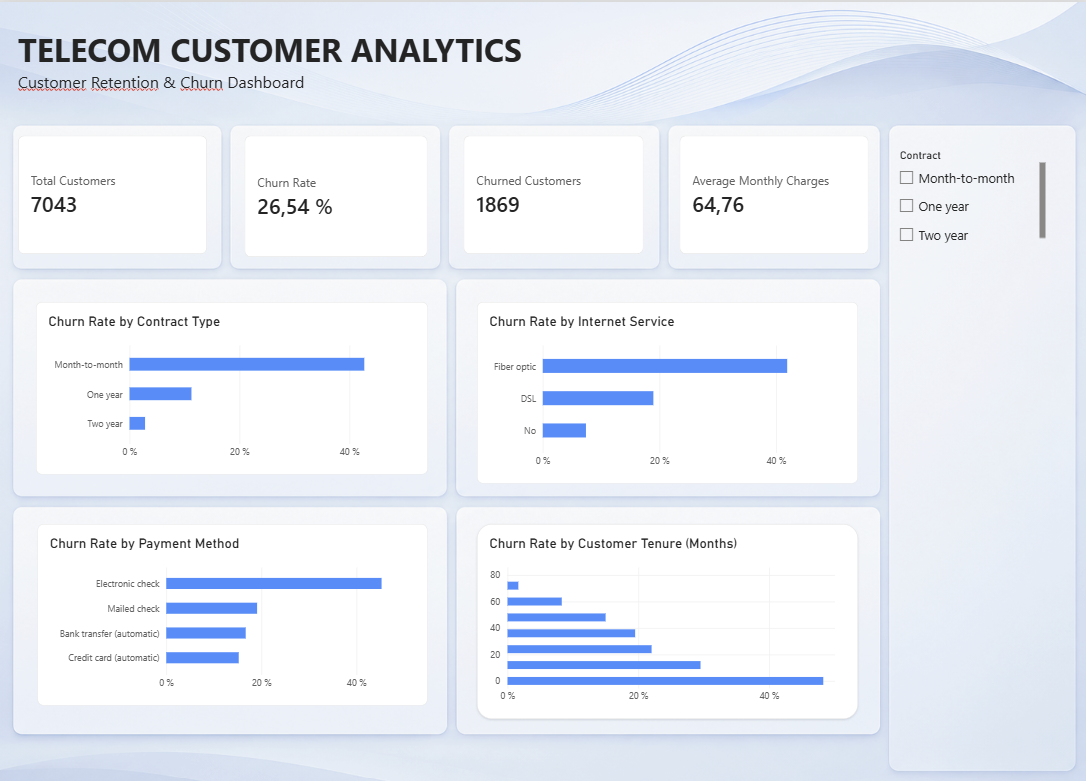

Layout of this report page (visuals, bound fields, positions):
{"tool":"powerbi","page":{"name":"Side 1","canvas":[1450,1080],"ordinal":0},"visuals":[{"type":"cardVisual","fields":{"Data":["Count(WA_Fn-UseC_-Telco-Customer-Churn.customerID)"]},"box":[24,178,252,158],"z":0},{"type":"cardVisual","fields":{"Data":["WA_Fn-UseC_-Telco-Customer-Churn.Churn Rate"]},"box":[326,178,244,162],"z":1000},{"type":"clusteredBarChart","title":"Churn Rate by Contract Type","fields":{"Category":["WA_Fn-UseC_-Telco-Customer-Churn.Contract"],"Y":["WA_Fn-UseC_-Telco-Customer-Churn.Churn Rate"]},"box":[47.5,400,522.5,230],"z":2000},{"type":"cardVisual","fields":{"Data":["Avg(WA_Fn-UseC_-Telco-Customer-Churn.MonthlyCharges)"]},"box":[906,178,252,158],"z":3000},{"type":"clusteredBarChart","title":"Churn Rate by Internet Service","fields":{"Category":["WA_Fn-UseC_-Telco-Customer-Churn.InternetService"],"Y":["WA_Fn-UseC_-Telco-Customer-Churn.Churn Rate"]},"box":[636,400,508,242],"z":4000},{"type":"slicer","fields":{"Values":["WA_Fn-UseC_-Telco-Customer-Churn.Contract"]},"box":[1192.5,195,202.2,130.4],"z":5000},{"type":"cardVisual","fields":{"Data":["WA_Fn-UseC_-Telco-Customer-Churn.Churned Customers"]},"box":[618,178,240,158],"z":6000},{"type":"clusteredBarChart","title":"Churn Rate by Payment Method","fields":{"Category":["WA_Fn-UseC_-Telco-Customer-Churn.PaymentMethod"],"Y":["WA_Fn-UseC_-Telco-Customer-Churn.Churn Rate"]},"box":[50,696,520,242],"z":7000},{"type":"clusteredBarChart","title":"Churn Rate by Customer Tenure (Months)","fields":{"Category":["WA_Fn-UseC_-Telco-Customer-Churn.tenure groups"],"Y":["WA_Fn-UseC_-Telco-Customer-Churn.Churn Rate"]},"box":[636,696,508,260],"z":8000},{"type":"textbox","box":[23.9,34.8,684.8,106.5],"z":9000}]}

Visuals, with their boxes on the page's 1450x1080 design canvas (x1, y1, x2, y2). These are canvas units, not pixel positions in the 1086x781 screenshot, which may show the page scaled, cropped or inside an application window:
cardVisual - Count(WA_Fn-UseC_-Telco-Customer-Churn.customerID): 24 178 276 336
cardVisual - WA_Fn-UseC_-Telco-Customer-Churn.Churn Rate: 326 178 570 340
"Churn Rate by Contract Type" clusteredBarChart: 48 400 570 630
cardVisual - Avg(WA_Fn-UseC_-Telco-Customer-Churn.MonthlyCharges): 906 178 1158 336
"Churn Rate by Internet Service" clusteredBarChart: 636 400 1144 642
slicer - WA_Fn-UseC_-Telco-Customer-Churn.Contract: 1192 195 1395 325
cardVisual - WA_Fn-UseC_-Telco-Customer-Churn.Churned Customers: 618 178 858 336
"Churn Rate by Payment Method" clusteredBarChart: 50 696 570 938
"Churn Rate by Customer Tenure (Months)" clusteredBarChart: 636 696 1144 956
textbox: 24 35 709 141
